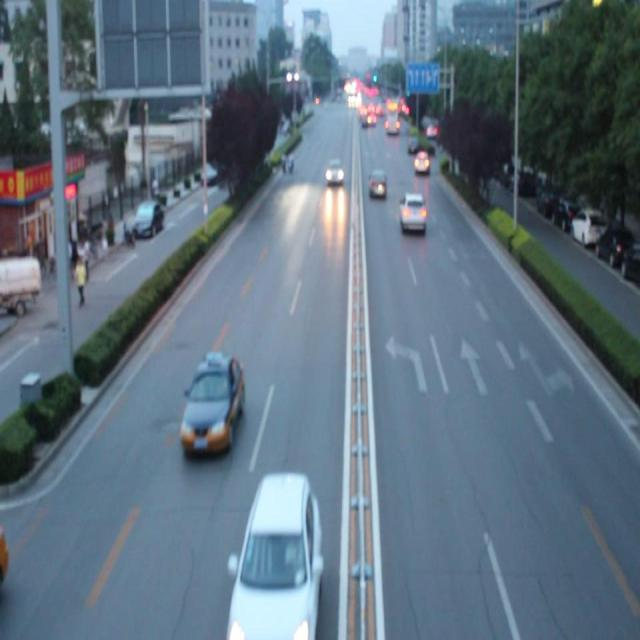car: (231, 471, 323, 640), (179, 354, 244, 456), (399, 190, 427, 234), (368, 166, 387, 198)
